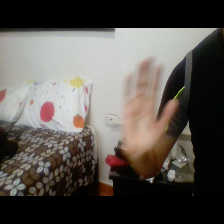left: (114, 51, 181, 162)
